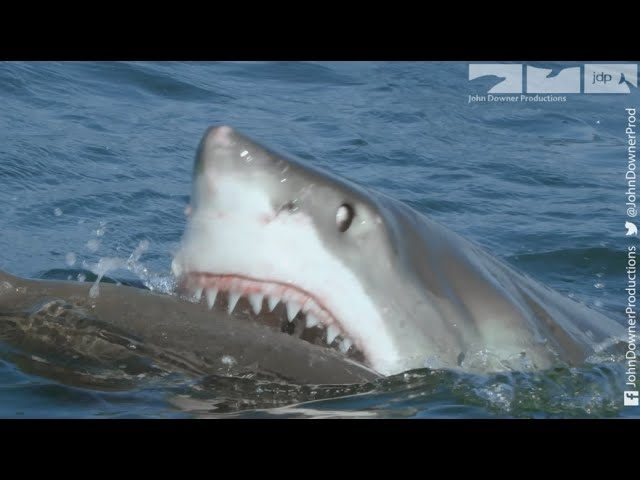shark: (159, 108, 640, 394)
